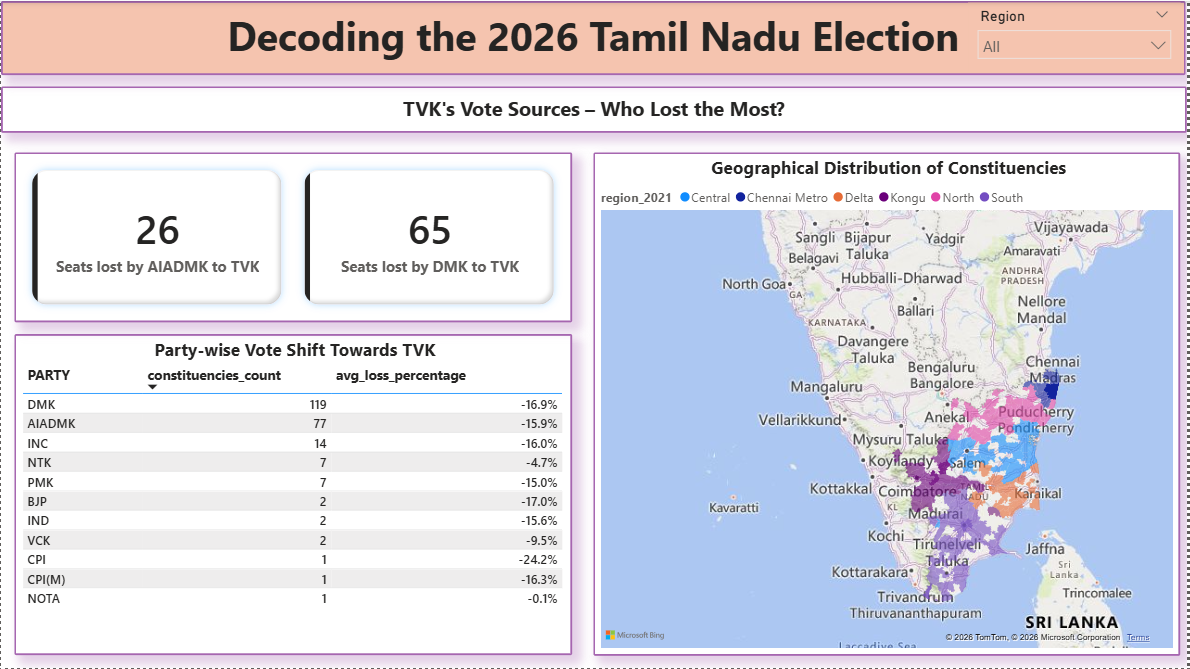

What the dashboard file says about the page in this screenshot:
{"tool":"powerbi","page":{"name":"Page 3","canvas":[1280,720],"ordinal":2},"visuals":[{"type":"textbox","box":[0,91.7,1280,50],"z":0},{"type":"tableEx","title":"Party-wise Vote Shift Towards TVK","fields":{"Values":["Table.Column1","Sum(Table.Column2)","Sum(Table.Column3)"]},"box":[15,360,601.7,346.7],"z":1000},{"type":"cardVisual","fields":{"Data":["constituency_master.Seats lost by AIADMK to TVK","constituency_master.Seats lost by DMK to TVK"]},"box":[15,163.3,601.7,183.3],"z":2000},{"type":"filledMap","title":"Geographical Distribution of Constituencies","fields":{"Series":["merged_analysis.region_2021"],"Category":["constituency_master.constituency"]},"box":[640,163.3,633.3,543.3],"z":4000},{"type":"textbox","box":[0,0,1278.3,80],"z":6000},{"type":"slicer","fields":{"Values":["constituency_master.region"]},"box":[1045,1.7,228.3,75],"z":7000}]}

Visuals, with their boxes in screenshot pixels (x1, y1, x2, y2), scaled from the page's 1280x720 canvas onto the 1190x669 screenshot:
textbox: region(0, 85, 1189, 132)
"Party-wise Vote Shift Towards TVK" tableEx: region(14, 334, 573, 657)
cardVisual - constituency_master.Seats lost by AIADMK to TVK x constituency_master.Seats lost by DMK to TVK: region(14, 152, 573, 322)
"Geographical Distribution of Constituencies" filledMap: region(595, 152, 1184, 657)
textbox: region(0, 0, 1188, 74)
slicer - constituency_master.region: region(972, 2, 1184, 71)
